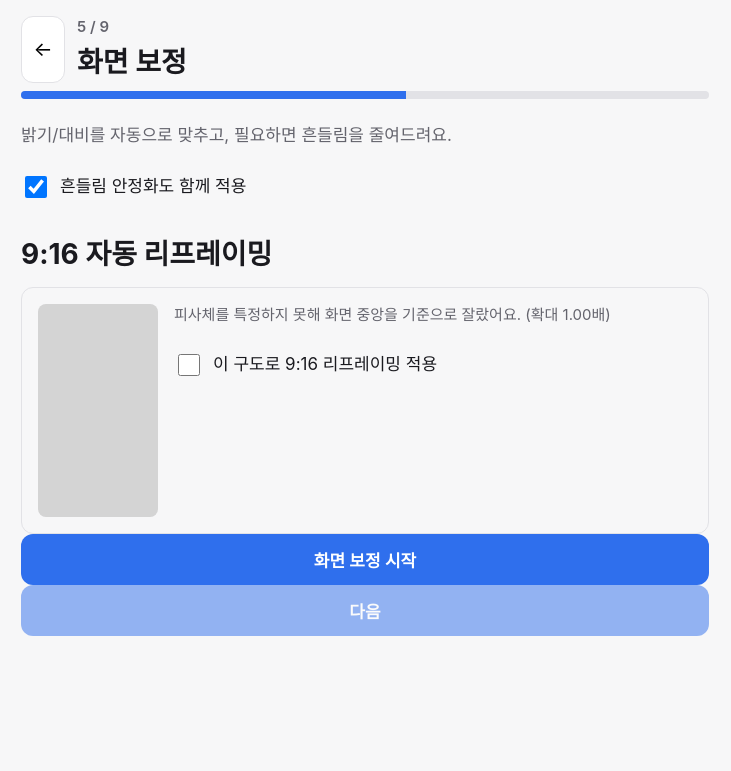
Test: AUTO_EDIT 9단계 전체 흐름 (백엔드 API mock) › 1단계부터 9단계 내보내기까지 끝까지 진행할 수 있다
Earlier steps of the test are not shown.
Later steps or results of the test are not shown.
Expected: the text "5 / 9" is shown, 77,17 -> 109,36
Click the button "화면 보정 시작".
click(365, 560)  # box 21,534 -> 709,585
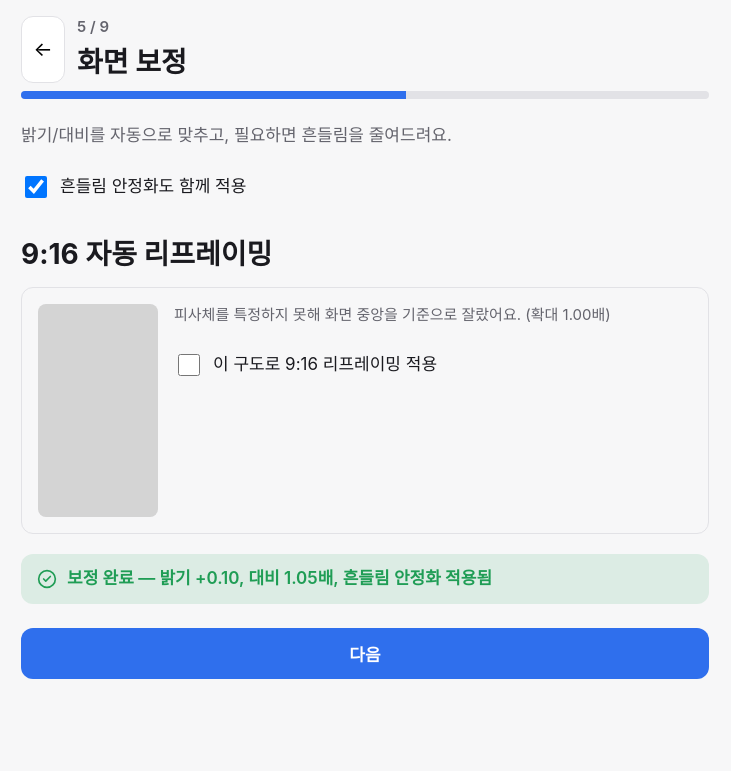
Expected: the text "보정 완료 — 밝기 +0.10, 대비 1.05배, 흔들림 안정화 적용됨" is shown, 67,566 -> 492,592
Click the button "다음".
click(365, 653)  # box 21,628 -> 709,678
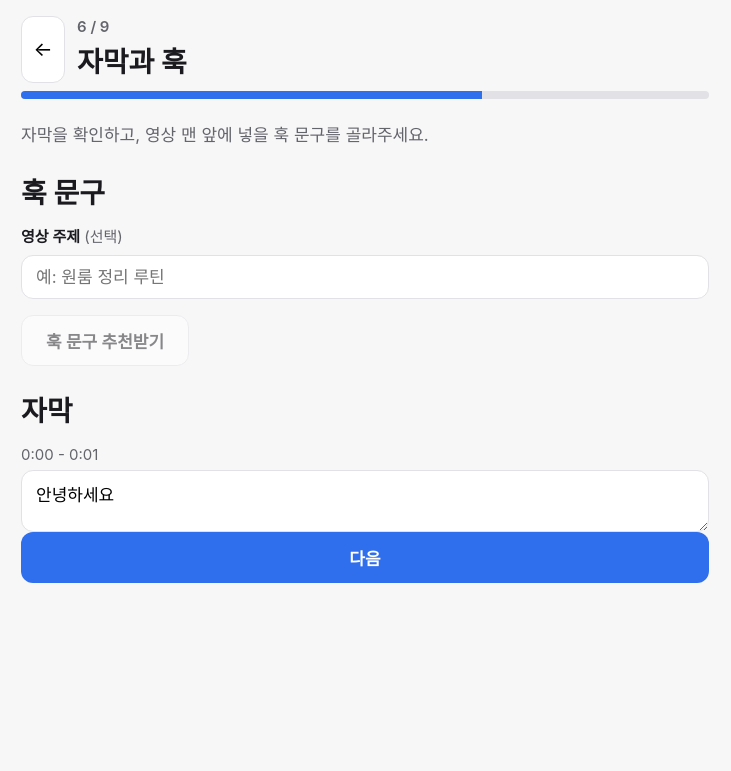
Expected: the text "6 / 9" is shown, 77,17 -> 110,36
Type "원룸 정리" into the field labelled "영상 주제 (선택)".
click(365, 276); type("원룸 정리")  # box 21,254 -> 709,298
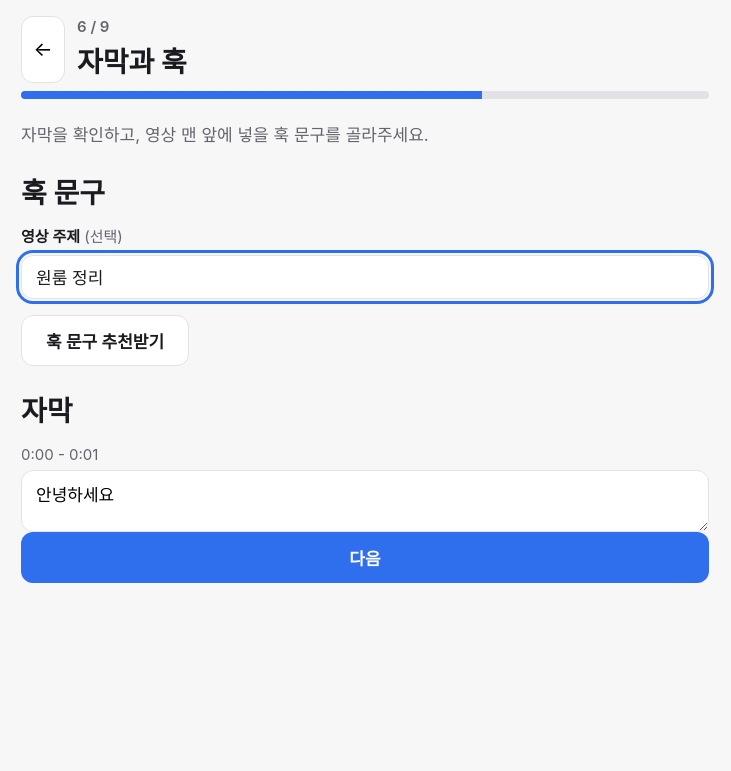
Click the button "훅 문구 추천받기".
click(105, 340)  # box 21,314 -> 189,366
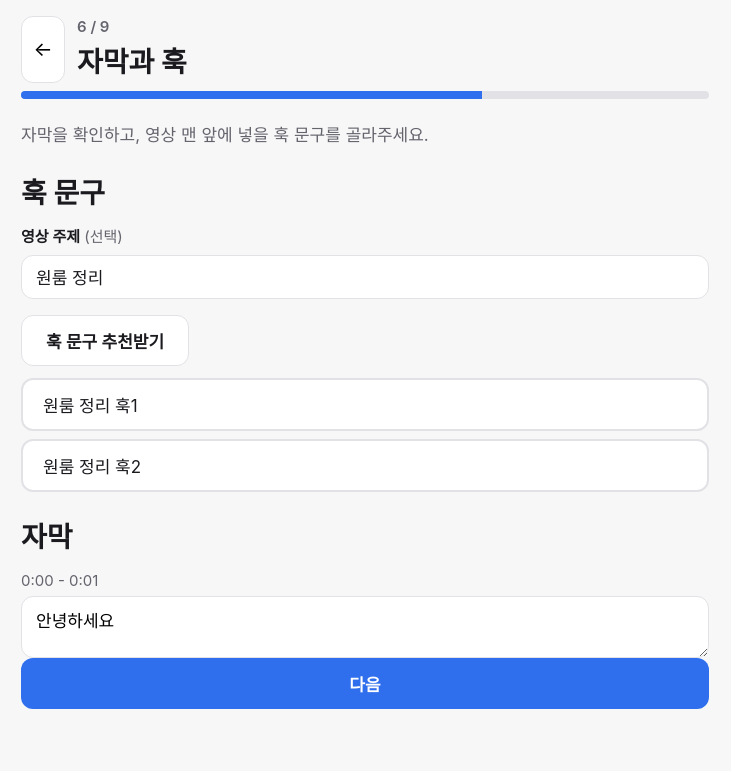
Expected: the button "원룸 정리 훅1" is shown
Click the button "원룸 정리 훅1".
click(90, 406)  # box 21,378 -> 709,430
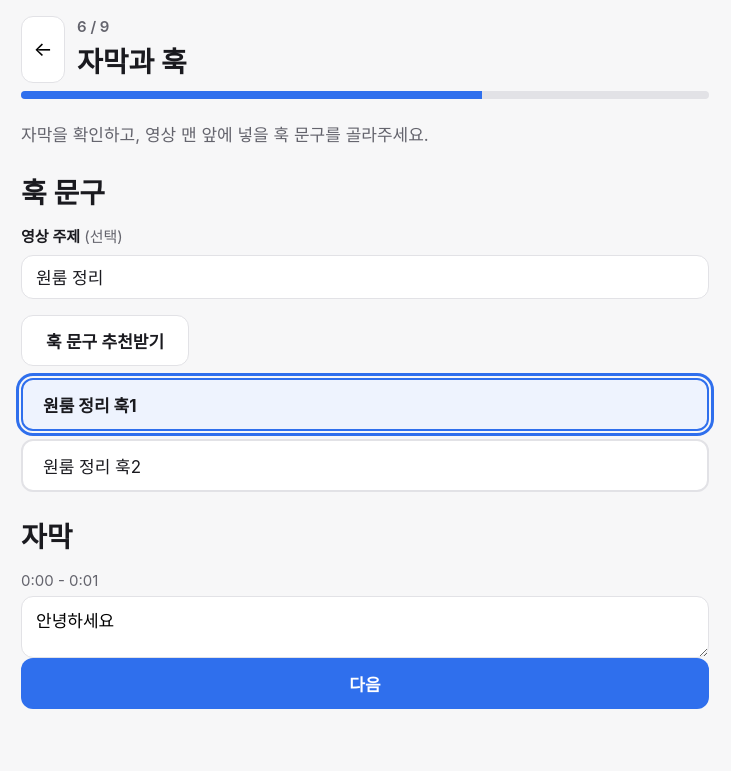
Click the button "다음".
click(365, 684)  # box 21,658 -> 709,709
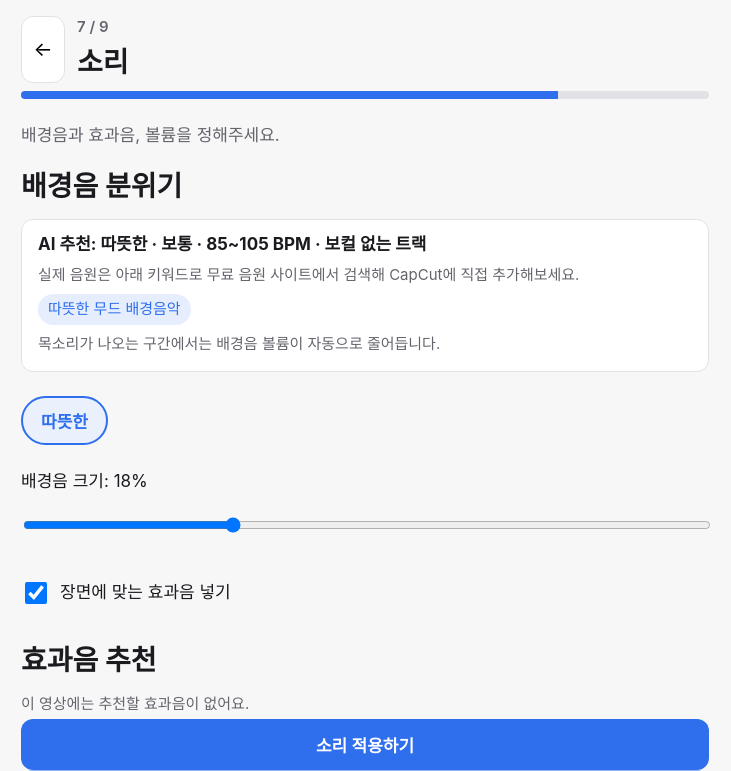
Expected: the text "7 / 9" is shown, 77,17 -> 108,36
Expected: the button "따뜻한" is shown, 21,396 -> 108,445
